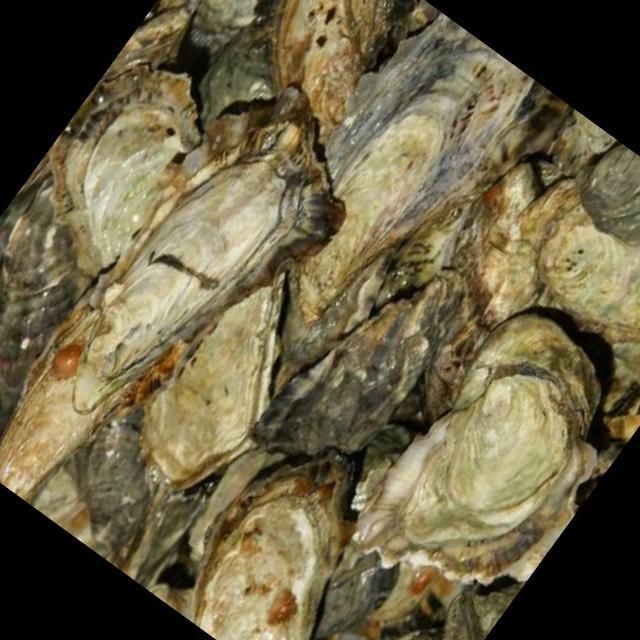Oyster- Indeterminate: (83, 111, 325, 410), (325, 16, 527, 285), (407, 315, 599, 580), (0, 272, 144, 519), (141, 275, 287, 490), (50, 72, 202, 278), (192, 459, 345, 640), (254, 301, 428, 454), (0, 180, 80, 411), (55, 418, 170, 555), (275, 0, 399, 124), (278, 244, 387, 383), (544, 206, 640, 345), (184, 0, 284, 133), (387, 176, 491, 289), (120, 477, 207, 598), (314, 551, 401, 640), (109, 0, 205, 78), (347, 424, 421, 521), (578, 146, 640, 252), (405, 271, 479, 351), (560, 104, 624, 178), (186, 0, 273, 52)
Oyster-Closed: (473, 180, 581, 325), (442, 581, 523, 640)
